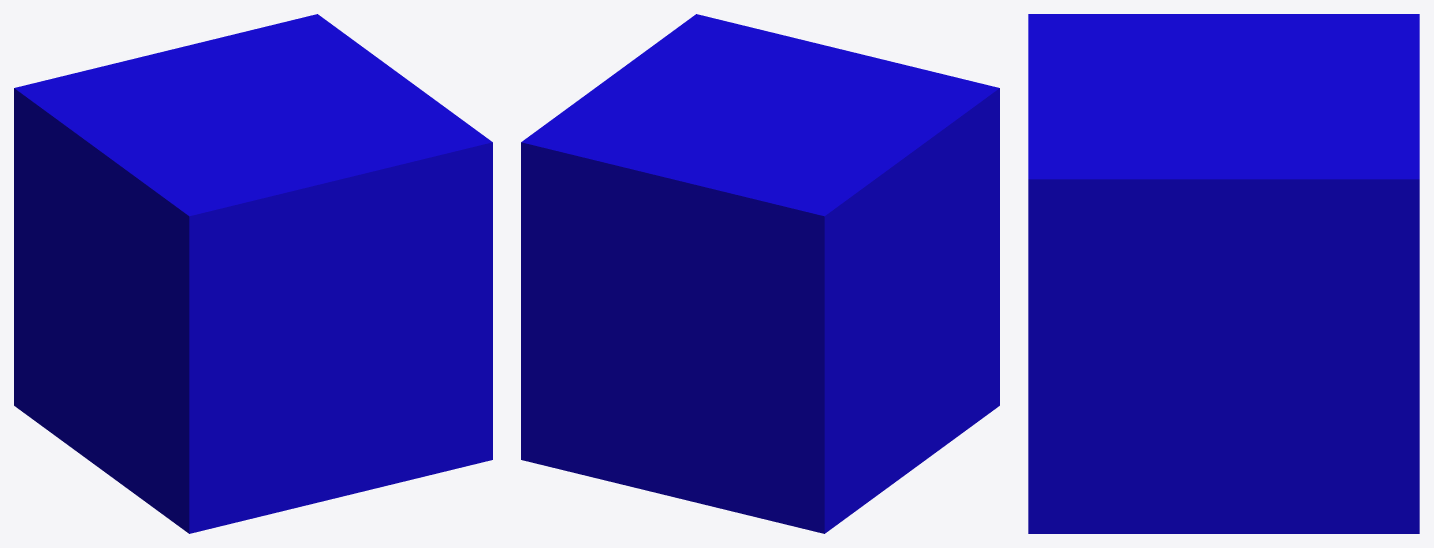
File: oda.glb
The picture shows the model from 3 angles, left to right: view 1: azimuth 30°, elevation 25°; view 2: azimuth 150°, elevation 25°; view 3: azimuth 270°, elevation 25°; orthographic projection. The views are drawn at different scales.
Parts seen in each view (by area): view 1: Cube; view 2: Cube; view 3: Cube.
Part boxes in pixels (x1,y1,x2,y2): Cube: (14, 14, 492, 533); Cube: (521, 14, 999, 533); Cube: (1028, 14, 1419, 533).
Bounding box in the file's own units: 0.01 × 0.01 × 0.01.
